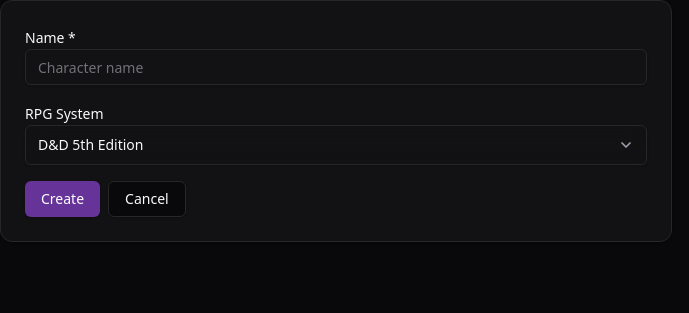
Test case: NewCharacterForm › mostra o erro traduzido quando a API recusa
The image size is (689, 313).
Type "Thor" into the field labelled "Name *" at (336, 67), box x1=25 y1=49 x2=647 y2=85
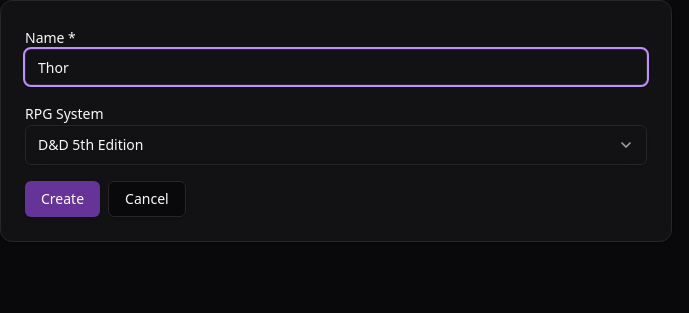
Click the button "Create" at (63, 199), box x1=25 y1=181 x2=100 y2=217
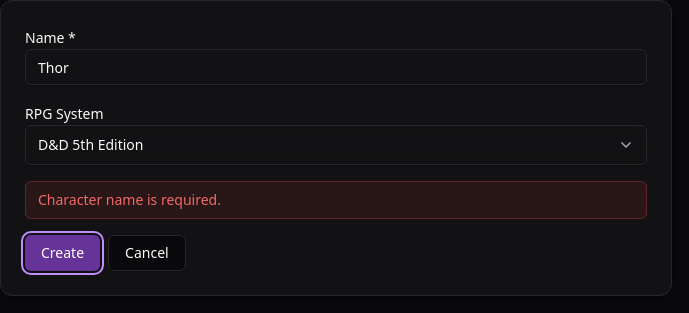
Expected: the message reads "Character name is required.", x1=38 y1=190 x2=221 y2=209
